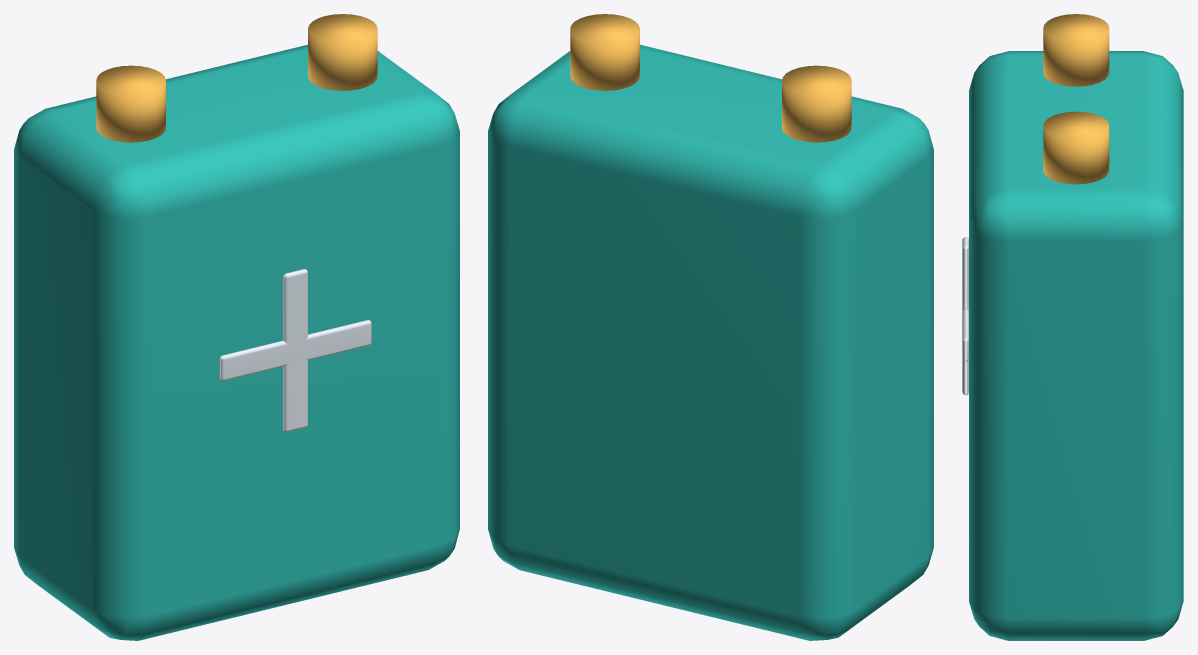
File: battery-quality.glb
The picture shows the model from 3 angles, left to right: view 1: azimuth 30°, elevation 25°; view 2: azimuth 150°, elevation 25°; view 3: azimuth 270°, elevation 25°; orthographic projection. The views are drawn at different scales.
Parts seen in each view (by area): view 1: Battery case; view 2: Battery case; view 3: Battery case.
Boxes of the visible parts, x1,y1,x2,y2 form: Battery case: (14,14,459,640); Battery case: (488,14,933,640); Battery case: (962,14,1183,640).
Size of the model in its own units: 1.2 by 1.65 by 0.67.
